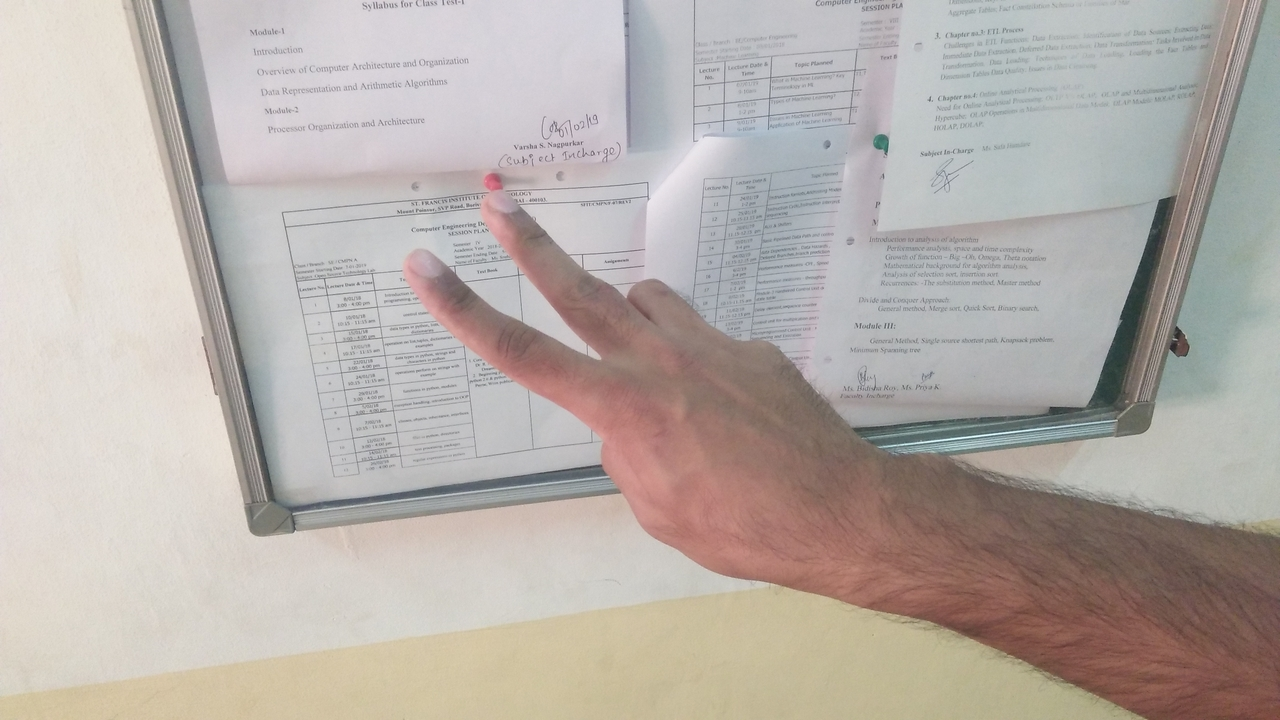fingertip: (390, 242, 450, 292), (481, 185, 523, 235)
